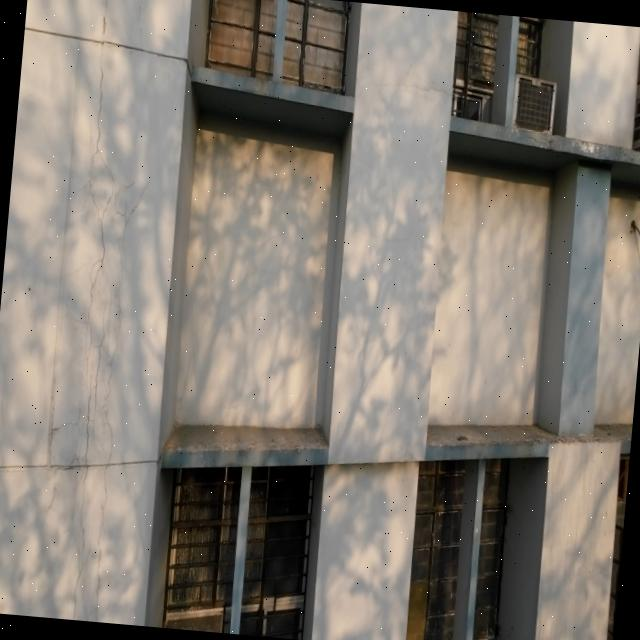Crack: (62, 0, 148, 622)
